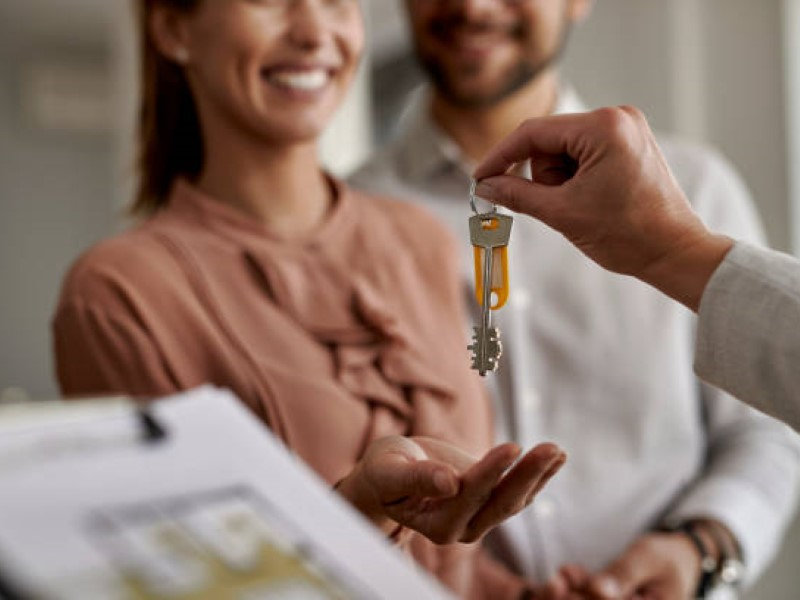key: (463, 196, 516, 381)
